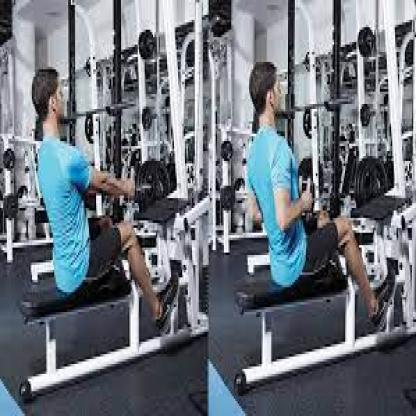Seated Cable Rows: (10, 53, 209, 400), (219, 44, 416, 388)
